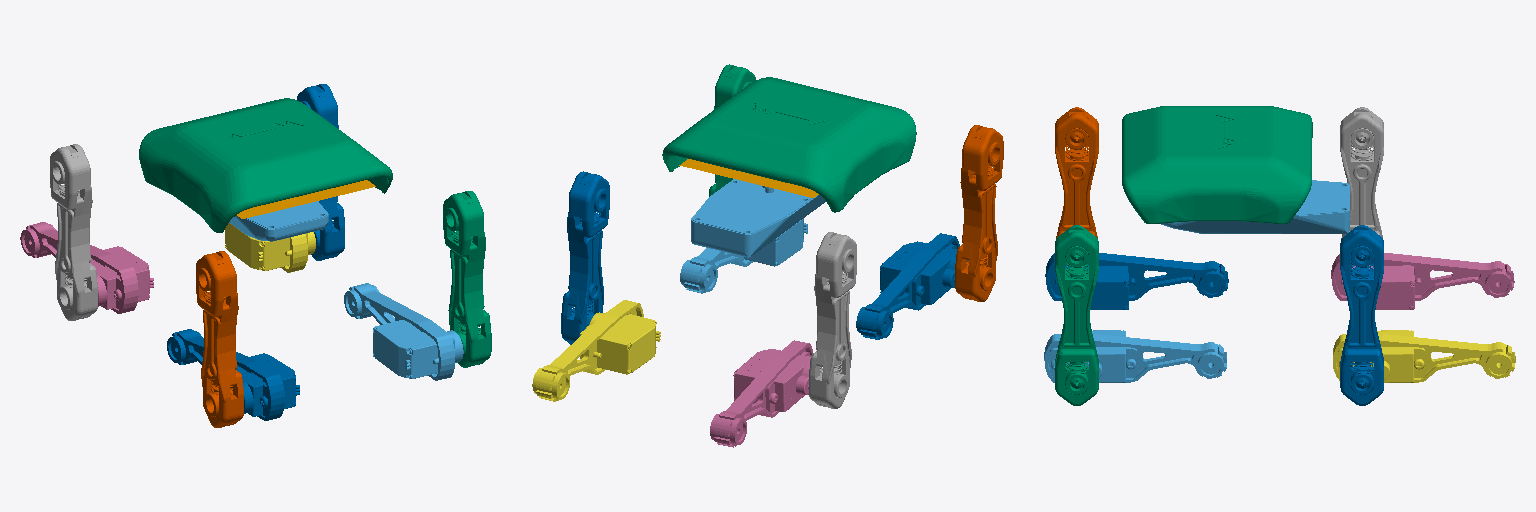
The robot description file, URDF, robot "bittle":
<?xml version="1.0"?>
<!-- created with Phobos 1.0.1 "Capricious Choutengan" -->
  <robot name="bittle">

    <link name="base-frame-link">
      <inertial>
        <origin xyz="0 0 0" rpy="0 0 0"/>
        <mass value="0.108"/>
        <inertia ixx="0.0001562" ixy="0" ixz="-4e-05" iyy="0.0000613" iyz="0" izz="0.0002107"/>
      </inertial>
      <visual name="base_frame">
        <origin xyz="0 0 0" rpy="0 0 0"/>
        <geometry>
          <mesh filename="../meshes/obj/base_frame.obj" scale="0.10 0.10 0.10"/>
        </geometry>
      </visual>
      <collision name="base_frame_c">
        <origin xyz="0 0 0" rpy="0 0 0"/>
        <geometry>
          <mesh filename="../meshes/obj/base_frame.001.obj" scale="0.10 0.10 0.10"/>
        </geometry>
      </collision>
    </link>

    <link name="battery-link">
      <inertial>
        <origin xyz="0 0 0" rpy="0 0 0"/>
        <mass value="0.056"/>
        <inertia ixx="0.0000337" ixy="0" ixz="0" iyy="0.0000044" iyz="0.0000031" izz="0.0000361"/>
      </inertial>
      <visual name="battery">
        <origin xyz="0 0 0" rpy="0 0 0"/>
        <geometry>
          <mesh filename="../meshes/obj/battery.obj" scale="0.10 0.10 0.10"/>
        </geometry>
      </visual>
      <collision name="battery_c">
        <origin xyz="0 0 0" rpy="0 0 0"/>
        <geometry>
          <mesh filename="../meshes/obj/battery.001.obj" scale="0.10 0.10 0.10"/>
        </geometry>
      </collision>
    </link>

    <link name="cover-link">
      <inertial>
        <origin xyz="0 0 0" rpy="0 0 0"/>
        <mass value="0.013"/>
        <inertia ixx="0.0000039" ixy="0" ixz="0" iyy="0.0000057" iyz="0" izz="0.000009"/>
      </inertial>
      <visual name="cover">
        <origin xyz="0 0 0" rpy="0 0 0"/>
        <geometry>
          <mesh filename="../meshes/obj/cover.obj" scale="0.10 0.10 0.10"/>
        </geometry>
      </visual>
      <collision name="cover_c">
        <origin xyz="0 0 0" rpy="0 0 0"/>
        <geometry>
          <mesh filename="../meshes/obj/cover.001.obj" scale="0.10 0.10 0.10"/>
        </geometry>
      </collision>
    </link>

    <link name="imu_link">
      <inertial>
        <origin xyz="0 0 0" rpy="0 0 0"/>
        <mass value="0.001"/>
        <inertia ixx="0.00001" ixy="0" ixz="0" iyy="0.00001" iyz="0" izz="0.00001"/>
      </inertial>
      <visual name="imu">
        <origin xyz="0 0 0" rpy="0 0 3.14159"/>
        <geometry>
          <mesh filename="../meshes/obj/Cube.011.obj" scale="0.10 0.10 0.10"/>
        </geometry>
      </visual>
    </link>

    <link name="left-back-knee-link">
      <inertial>
        <origin xyz="-0.008998 0 -0.014638" rpy="0 0 0"/>
        <mass value="0.017"/>
        <inertia ixx="8e-05" ixy="-4e-05" ixz="0" iyy="0.0000065" iyz="-8e-05" izz="0.0000063"/>
      </inertial>
      <visual name="left_back_knee">
        <origin xyz="-0.008998 0 -0.014638" rpy="-1.5708 1.5708 0"/>
        <geometry>
          <mesh filename="../meshes/obj/left_knee.001.obj" scale="0.10 0.10 0.10"/>
        </geometry>
      </visual>
      <collision name="left_back_knee_c">
        <origin xyz="-0.008998 0 -0.014638" rpy="-1.5708 1.5708 0"/>
        <geometry>
          <mesh filename="../meshes/obj/left_knee.002.obj" scale="0.10 0.10 0.10"/>
        </geometry>
      </collision>
    </link>

    <link name="left-back-shoulder-link">
      <inertial>
        <origin xyz="0 -0.024575 0.004372" rpy="0 0 0"/>
        <mass value="0.006"/>
        <inertia ixx="0.0000044" ixy="0" ixz="0" iyy="4e-05" iyz="0" izz="0.0000044"/>
      </inertial>
      <visual name="left_back_shoulder">
        <origin xyz="0 -0.024575 0.004372" rpy="-1.5708 1.5708 0"/>
        <geometry>
          <mesh filename="../meshes/obj/shoulder.001.obj" scale="0.10 0.10 0.10"/>
        </geometry>
      </visual>
      <collision name="left_back_shoulder_c">
        <origin xyz="0 -0.024575 0.004372" rpy="-1.5708 1.5708 0"/>
        <geometry>
          <mesh filename="../meshes/obj/shoulder.004.obj" scale="0.10 0.10 0.10"/>
        </geometry>
      </collision>
    </link>

    <link name="left-front-knee-link">
      <inertial>
        <origin xyz="-0.009232 0 -0.014614" rpy="0 0 0"/>
        <mass value="0.017"/>
        <inertia ixx="8e-05" ixy="-4e-05" ixz="0" iyy="0.0000065" iyz="-8e-05" izz="0.0000063"/>
      </inertial>
      <visual name="left_front_knee">
        <origin xyz="-0.009232 0 -0.014614" rpy="-1.5708 1.5708 0"/>
        <geometry>
          <mesh filename="../meshes/obj/left_knee.obj" scale="0.10 0.10 0.10"/>
        </geometry>
      </visual>
      <collision name="left_front_knee_c">
        <origin xyz="-0.009232 0 -0.014614" rpy="-1.5708 1.5708 0"/>
        <geometry>
          <mesh filename="../meshes/obj/left_knee.003.obj" scale="0.10 0.10 0.10"/>
        </geometry>
      </collision>
    </link>

    <link name="left-front-shoulder-link">
      <inertial>
        <origin xyz="0 -0.024575 0.004372" rpy="0 0 0"/>
        <mass value="0.006"/>
        <inertia ixx="0.0000044" ixy="0" ixz="0" iyy="4e-05" iyz="0" izz="0.0000044"/>
      </inertial>
      <visual name="left_front_shoulder">
        <origin xyz="0 -0.024575 0.004372" rpy="-1.5708 1.5708 0"/>
        <geometry>
          <mesh filename="../meshes/obj/shoulder.obj" scale="0.10 0.10 0.10"/>
        </geometry>
      </visual>
      <collision name="left_front_shoulder_c">
        <origin xyz="0 -0.024575 0.004372" rpy="-1.5708 1.5708 0"/>
        <geometry>
          <mesh filename="../meshes/obj/shoulder.007.obj" scale="0.10 0.10 0.10"/>
        </geometry>
      </collision>
    </link>

    <link name="mainboard_link">
      <inertial>
        <origin xyz="0 0 0" rpy="0 0 0"/>
        <mass value="0.001"/>
        <inertia ixx="0.00001" ixy="0" ixz="0" iyy="0.00001" iyz="0" izz="0.00001"/>
      </inertial>
      <visual name="mainboard">
        <origin xyz="0 0 0" rpy="0 0 0"/>
        <geometry>
          <mesh filename="../meshes/obj/Plane.obj" scale="0.10 0.10 0.10"/>
        </geometry>
      </visual>
    </link>

    <link name="right-back-knee-link">
      <inertial>
        <origin xyz="0.008426 -0.000238 -0.01382" rpy="0 0 0"/>
        <mass value="0.017"/>
        <inertia ixx="8e-05" ixy="-3e-05" ixz="0" iyy="0.0000065" iyz="-5e-05" izz="0.0000064"/>
      </inertial>
      <visual name="right_back_knee">
        <origin xyz="0.008426 -0.000238 -0.01382" rpy="-1.5708 -1.5708 0"/>
        <geometry>
          <mesh filename="../meshes/obj/right_knee.001.obj" scale="0.10 0.10 0.10"/>
        </geometry>
      </visual>
      <collision name="right_back_knee_c">
        <origin xyz="0.008426 -0.000238 -0.01382" rpy="-1.5708 -1.5708 0"/>
        <geometry>
          <mesh filename="../meshes/obj/right_knee.002.obj" scale="0.10 0.10 0.10"/>
        </geometry>
      </collision>
    </link>

    <link name="right-back-shoulder-link">
      <inertial>
        <origin xyz="0 0.024575 0.00777" rpy="0 0 0"/>
        <mass value="0.006"/>
        <inertia ixx="0.0000044" ixy="0" ixz="0" iyy="4e-05" iyz="0" izz="0.0000044"/>
      </inertial>
      <visual name="right_back_shoulder">
        <origin xyz="0 0.024575 0.00777" rpy="1.5708 -1.5708 0"/>
        <geometry>
          <mesh filename="../meshes/obj/shoulder.002.obj" scale="0.10 0.10 0.10"/>
        </geometry>
      </visual>
      <collision name="right_back_shoulder_c">
        <origin xyz="0 0.024575 0.00777" rpy="1.5708 -1.5708 0"/>
        <geometry>
          <mesh filename="../meshes/obj/shoulder.005.obj" scale="0.10 0.10 0.10"/>
        </geometry>
      </collision>
    </link>

    <link name="right-front-knee-link">
      <inertial>
        <origin xyz="0.009497 -0.000238 -0.01382" rpy="0 0 0"/>
        <mass value="0.017"/>
        <inertia ixx="8e-05" ixy="-3e-05" ixz="0" iyy="0.0000065" iyz="-5e-05" izz="0.0000064"/>
      </inertial>
      <visual name="right_front_knee">
        <origin xyz="0.009497 -0.000238 -0.01382" rpy="-1.5708 -1.5708 0"/>
        <geometry>
          <mesh filename="../meshes/obj/right_knee.obj" scale="0.10 0.10 0.10"/>
        </geometry>
      </visual>
      <collision name="right_front_knee_c">
        <origin xyz="0.009497 -0.000238 -0.01382" rpy="-1.5708 -1.5708 0"/>
        <geometry>
          <mesh filename="../meshes/obj/right_knee.003.obj" scale="0.10 0.10 0.10"/>
        </geometry>
      </collision>
    </link>

    <link name="right-front-shoulder-link">
      <inertial>
        <origin xyz="0 0.024575 0.00777" rpy="0 0 0"/>
        <mass value="0.006"/>
        <inertia ixx="0.0000044" ixy="0" ixz="0" iyy="4e-05" iyz="0" izz="0.0000044"/>
      </inertial>
      <visual name="right_front_shoulder">
        <origin xyz="0 0.024575 0.00777" rpy="1.5708 -1.5708 0"/>
        <geometry>
          <mesh filename="../meshes/obj/shoulder.003.obj" scale="0.10 0.10 0.10"/>
        </geometry>
      </visual>
      <collision name="right_front_shoulder_c">
        <origin xyz="0 0.024575 0.00777" rpy="1.5708 -1.5708 0"/>
        <geometry>
          <mesh filename="../meshes/obj/shoulder.006.obj" scale="0.10 0.10 0.10"/>
        </geometry>
      </collision>
    </link>

    <joint name="battery-joint" type="fixed">
      <origin xyz="0.000047 -0.000917 -0.004848" rpy="0 0 0"/>
      <parent link="base-frame-link"/>
      <child link="battery-link"/>
    </joint>

    <joint name="cover-joint" type="fixed">
      <origin xyz="0.00014 0 0.01251" rpy="0 0 0"/>
      <parent link="base-frame-link"/>
      <child link="cover-link"/>
    </joint>

    <joint name="imu_joint" type="fixed">
      <origin xyz="-0.000652 0.000827 0.000586" rpy="0 0 -3.14159"/>
      <parent link="mainboard_link"/>
      <child link="imu_link"/>
    </joint>

    <joint name="left-back-knee-joint" type="revolute">
      <origin xyz="0 -0.049172 0" rpy="0 0 0"/>
      <parent link="left-back-shoulder-link"/>
      <child link="left-back-knee-link"/>
      <axis xyz="0 0 1.0"/>
      <limit lower="-1.22173" upper="1.48353" effort="1.0" velocity="1.5708"/>
    </joint>

    <joint name="left-back-shoulder-joint" type="revolute">
      <origin xyz="-0.044596 -0.051923 -0.002102" rpy="1.5708 0 -1.5708"/>
      <parent link="base-frame-link"/>
      <child link="left-back-shoulder-link"/>
      <axis xyz="0 0 1.0"/>
      <limit lower="-1.5708" upper="1.22173" effort="1.0" velocity="1.5708"/>
    </joint>

    <joint name="left-front-knee-joint" type="revolute">
      <origin xyz="7e-05 -0.049172 0" rpy="0 0 0"/>
      <parent link="left-front-shoulder-link"/>
      <child link="left-front-knee-link"/>
      <axis xyz="0 0 1.0"/>
      <limit lower="-1.22173" upper="1.48353" effort="1.0" velocity="1.5708"/>
    </joint>

    <joint name="left-front-shoulder-joint" type="revolute">
      <origin xyz="-0.044596 0.052264 -0.002102" rpy="1.5708 0 -1.5708"/>
      <parent link="base-frame-link"/>
      <child link="left-front-shoulder-link"/>
      <axis xyz="0 0 1.0"/>
      <limit lower="-1.5708" upper="1.22173" effort="1.0" velocity="1.5708"/>
    </joint>

    <joint name="mainboard_joint" type="fixed">
      <origin xyz="0.000652 -0.000827 0.006423" rpy="0 0 0"/>
      <parent link="base-frame-link"/>
      <child link="mainboard_link"/>
    </joint>

    <joint name="right-back-knee-joint" type="revolute">
      <origin xyz="0.000015 0.049938 0.003996" rpy="0 0 3.14159"/>
      <parent link="right-back-shoulder-link"/>
      <child link="right-back-knee-link"/>
      <axis xyz="0 0 1.0"/>
      <limit lower="-1.22173" upper="1.48353" effort="1.0" velocity="1.5708"/>
    </joint>

    <joint name="right-back-shoulder-joint" type="revolute">
      <origin xyz="0.045149 -0.051923 -0.002102" rpy="-1.5708 0 -1.5708"/>
      <parent link="base-frame-link"/>
      <child link="right-back-shoulder-link"/>
      <axis xyz="0 0 1.0"/>
      <limit lower="-1.5708" upper="1.22173" effort="1.0" velocity="1.5708"/>
    </joint>

    <joint name="right-front-knee-joint" type="revolute">
      <origin xyz="7e-05 0.049938 0.003996" rpy="0 0 3.14159"/>
      <parent link="right-front-shoulder-link"/>
      <child link="right-front-knee-link"/>
      <axis xyz="0 0 1.0"/>
      <limit lower="-1.22173" upper="1.48353" effort="1.0" velocity="1.5708"/>
    </joint>

    <joint name="right-front-shoulder-joint" type="revolute">
      <origin xyz="0.045149 0.052264 -0.002102" rpy="-1.5708 0 -1.5708"/>
      <parent link="base-frame-link"/>
      <child link="right-front-shoulder-link"/>
      <axis xyz="0 0 1.0"/>
      <limit lower="-1.5708" upper="1.22173" effort="1.0" velocity="1.5708"/>
    </joint>

  </robot>

--- Facts derived from the render (not from the file) ---
3 views of the same robot in one strip: view 1: azimuth 30°, elevation 25°; view 2: azimuth 150°, elevation 25°; view 3: azimuth 270°, elevation 25° (orthographic).
Model bittle with 13 links and 12 joints (8 revolute, 4 fixed), rooted at base-frame-link, posed every joint at zero.
Links seen in each view (by area): view 1: cover-link, left-back-shoulder-link, left-front-shoulder-link, right-back-knee-link, right-back-shoulder-link, left-back-knee-link, left-front-knee-link, right-front-knee-link, right-front-shoulder-link, battery-link, mainboard_link; view 2: cover-link, battery-link, left-back-shoulder-link, left-front-shoulder-link, right-front-knee-link, right-front-shoulder-link, left-front-knee-link, left-back-knee-link, right-back-knee-link, right-back-shoulder-link, mainboard_link; view 3: cover-link, right-back-shoulder-link, right-front-shoulder-link, left-front-knee-link, left-back-knee-link, right-front-knee-link, right-back-knee-link, left-back-shoulder-link, left-front-shoulder-link, battery-link.
Link boxes in pixels (bbox=[...]): cover-link: bbox=[139, 98, 392, 232]; left-back-shoulder-link: bbox=[196, 251, 243, 427]; left-front-shoulder-link: bbox=[50, 144, 97, 320]; right-back-knee-link: bbox=[344, 283, 463, 380]; right-back-shoulder-link: bbox=[443, 191, 491, 367]; left-back-knee-link: bbox=[167, 329, 299, 420]; left-front-knee-link: bbox=[20, 222, 153, 313]; right-front-knee-link: bbox=[225, 223, 315, 272]; right-front-shoulder-link: bbox=[297, 84, 344, 260]; battery-link: bbox=[229, 201, 328, 241]; mainboard_link: bbox=[237, 180, 375, 218]; cover-link: bbox=[662, 77, 916, 212]; battery-link: bbox=[691, 179, 825, 257]; left-back-shoulder-link: bbox=[955, 125, 1003, 301]; left-front-shoulder-link: bbox=[809, 232, 856, 408]; right-front-knee-link: bbox=[532, 300, 660, 401]; right-front-shoulder-link: bbox=[561, 171, 609, 344]; left-front-knee-link: bbox=[710, 340, 821, 447]; left-back-knee-link: bbox=[856, 233, 968, 339]; right-back-knee-link: bbox=[680, 218, 807, 293]; right-back-shoulder-link: bbox=[709, 64, 755, 196]; mainboard_link: bbox=[679, 159, 818, 197]; cover-link: bbox=[1122, 106, 1312, 223]; right-back-shoulder-link: bbox=[1055, 225, 1098, 405]; right-front-shoulder-link: bbox=[1340, 225, 1383, 405]; left-front-knee-link: bbox=[1331, 253, 1514, 309]; left-back-knee-link: bbox=[1045, 253, 1228, 309]; right-front-knee-link: bbox=[1333, 330, 1515, 382]; right-back-knee-link: bbox=[1044, 330, 1226, 382]; left-back-shoulder-link: bbox=[1055, 107, 1098, 238]; left-front-shoulder-link: bbox=[1340, 107, 1383, 238]; battery-link: bbox=[1161, 180, 1349, 233].
Size in the robot's own frame: 0.1149 by 0.172 by 0.0833 metres.
Meshes: 13 distinct files referenced, 12 mesh visuals loaded (12 OBJ); not drawn: 1 (reference not matched to a file when rendering).
